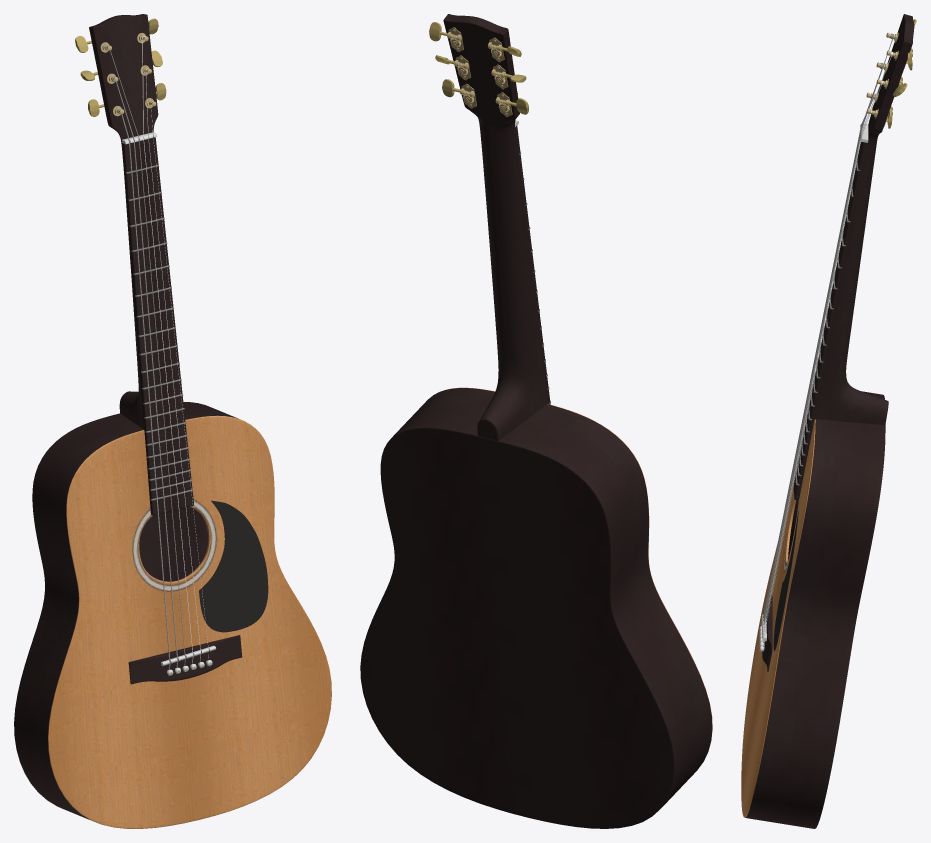
Rendered from acoustic_guitar.glb.
3 views of the same model, side by side, from view 1: azimuth 30°, elevation 25°; view 2: azimuth 150°, elevation 25°; view 3: azimuth 270°, elevation 25° (orthographic). The views are drawn at different scales.
Parts seen in each view (by area): view 1: guitar-neck, guitar-fretboard, guitar-fret.000, string.003, guitar-bridge; view 2: guitar-neck, guitar-fret.000, guitar-fretboard; view 3: guitar-neck, guitar-fret.000, guitar-fretboard, string.003, guitar-bridge.
Part boxes in pixels (left/top/right/bottom): guitar-neck: left=14, top=14, right=331, bottom=828; guitar-fretboard: left=122, top=137, right=194, bottom=515; guitar-fret.000: left=75, top=18, right=268, bottom=675; string.003: left=105, top=45, right=185, bottom=669; guitar-bridge: left=128, top=635, right=242, bottom=684; guitar-neck: left=360, top=14, right=712, bottom=828; guitar-fret.000: left=429, top=22, right=550, bottom=403; guitar-fretboard: left=515, top=125, right=550, bottom=404; guitar-neck: left=741, top=14, right=914, bottom=828; guitar-fret.000: left=759, top=19, right=916, bottom=651; guitar-fretboard: left=793, top=142, right=867, bottom=500; string.003: left=763, top=33, right=893, bottom=624; guitar-bridge: left=762, top=595, right=772, bottom=671.
Size of the model in its own units: 3.65 by 9.3 by 1.91.
5 materials, 5 textured.
